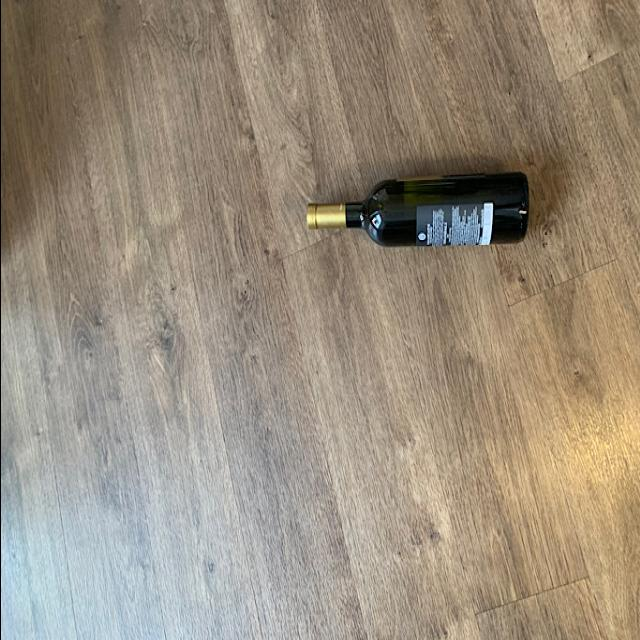litter: (303, 165, 533, 246)
